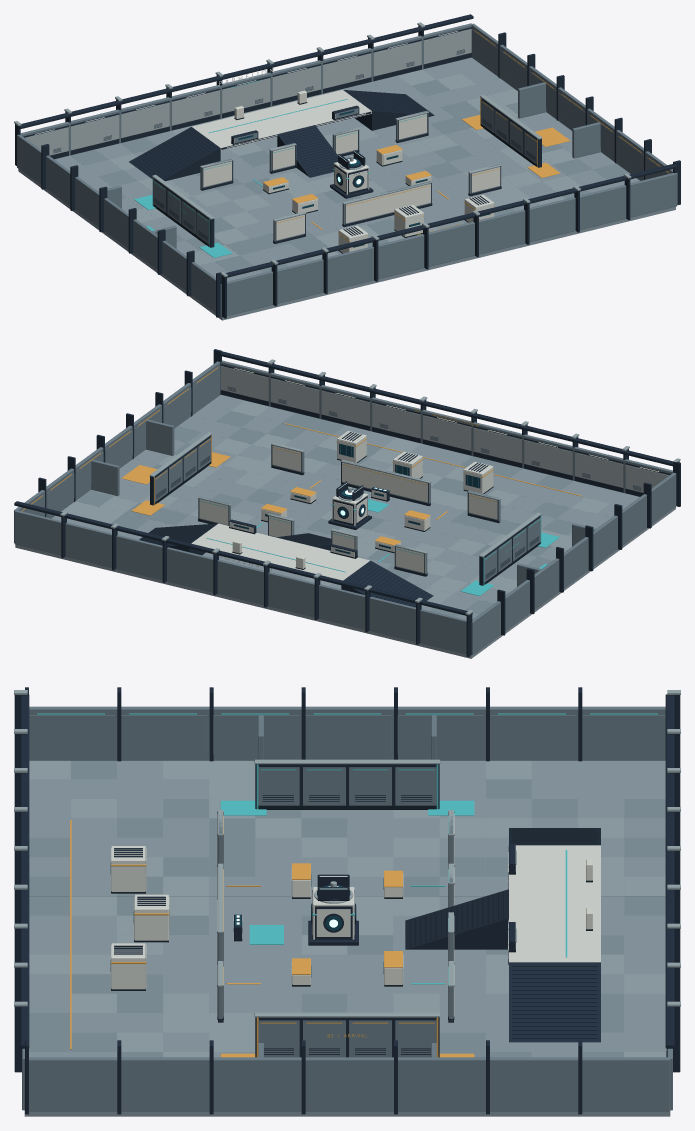
The model's file is station_visual.glb.
3 renders of one model, top to bottom at view 1: azimuth 30°, elevation 25°; view 2: azimuth 150°, elevation 25°; view 3: azimuth 270°, elevation 25°, orthographic. The views are drawn at different scales.
Visible parts, largest first — view 1: DETAIL_floor, DETAIL_dark, VIS_wall_south, DETAIL_concrete, DETAIL_tile_light, DETAIL_tile_dark, DETAIL_wall, VIS_wall_west, DETAIL_cover, VIS_gallery_deck, VIS_wall_north, VIS_ramp_gallery_west (+10 smaller); view 2: DETAIL_floor, DETAIL_dark, VIS_wall_north, DETAIL_concrete, DETAIL_tile_light, DETAIL_tile_dark, VIS_wall_west, DETAIL_wall, DETAIL_cover, VIS_gallery_deck, VIS_wall_south, VIS_floor_station (+12 smaller); view 3: DETAIL_floor, DETAIL_wall, VIS_wall_east, DETAIL_tile_light, DETAIL_tile_dark, DETAIL_dark, VIS_wall_west, VIS_gallery_deck, VIS_ramp_gallery_east, VIS_floor_station, DETAIL_rubber, DETAIL_steel (+12 smaller).
Part boxes in pixels (bbox=[...]): DETAIL_floor: bbox=[54, 57, 639, 281]; DETAIL_dark: bbox=[15, 14, 680, 318]; VIS_wall_south: bbox=[227, 173, 676, 315]; DETAIL_concrete: bbox=[25, 29, 471, 155]; DETAIL_tile_light: bbox=[109, 69, 581, 265]; DETAIL_tile_dark: bbox=[70, 79, 630, 272]; DETAIL_wall: bbox=[153, 29, 668, 244]; VIS_wall_west: bbox=[17, 134, 221, 316]; DETAIL_cover: bbox=[203, 114, 500, 240]; VIS_gallery_deck: bbox=[192, 90, 371, 150]; VIS_wall_north: bbox=[20, 23, 471, 158]; VIS_ramp_gallery_west: bbox=[129, 127, 220, 181]; DETAIL_floor: bbox=[52, 395, 639, 619]; DETAIL_dark: bbox=[14, 349, 680, 656]; VIS_wall_north: bbox=[14, 510, 466, 654]; DETAIL_concrete: bbox=[221, 366, 668, 492]; DETAIL_tile_light: bbox=[61, 400, 610, 603]; DETAIL_tile_dark: bbox=[76, 411, 580, 616]; VIS_wall_west: bbox=[471, 472, 676, 654]; DETAIL_wall: bbox=[22, 366, 540, 582]; DETAIL_cover: bbox=[199, 446, 497, 572]; VIS_gallery_deck: bbox=[191, 523, 369, 580]; VIS_wall_south: bbox=[221, 360, 672, 496]; VIS_floor_station: bbox=[15, 401, 675, 658]; DETAIL_floor: bbox=[29, 760, 666, 1057]; DETAIL_wall: bbox=[29, 715, 665, 1057]; VIS_wall_east: bbox=[24, 1057, 670, 1111]; DETAIL_tile_light: bbox=[29, 760, 666, 1057]; DETAIL_tile_dark: bbox=[29, 760, 665, 1057]; DETAIL_dark: bbox=[14, 687, 680, 1114]; VIS_wall_west: bbox=[29, 706, 665, 760]; VIS_gallery_deck: bbox=[509, 845, 600, 962]; VIS_ramp_gallery_east: bbox=[509, 962, 600, 1042]; VIS_floor_station: bbox=[24, 761, 670, 1116]; DETAIL_rubber: bbox=[111, 805, 597, 1038]; DETAIL_steel: bbox=[14, 690, 680, 1017].
Bounding box in the file's own units: 73.6 × 7.23 × 57.88.
